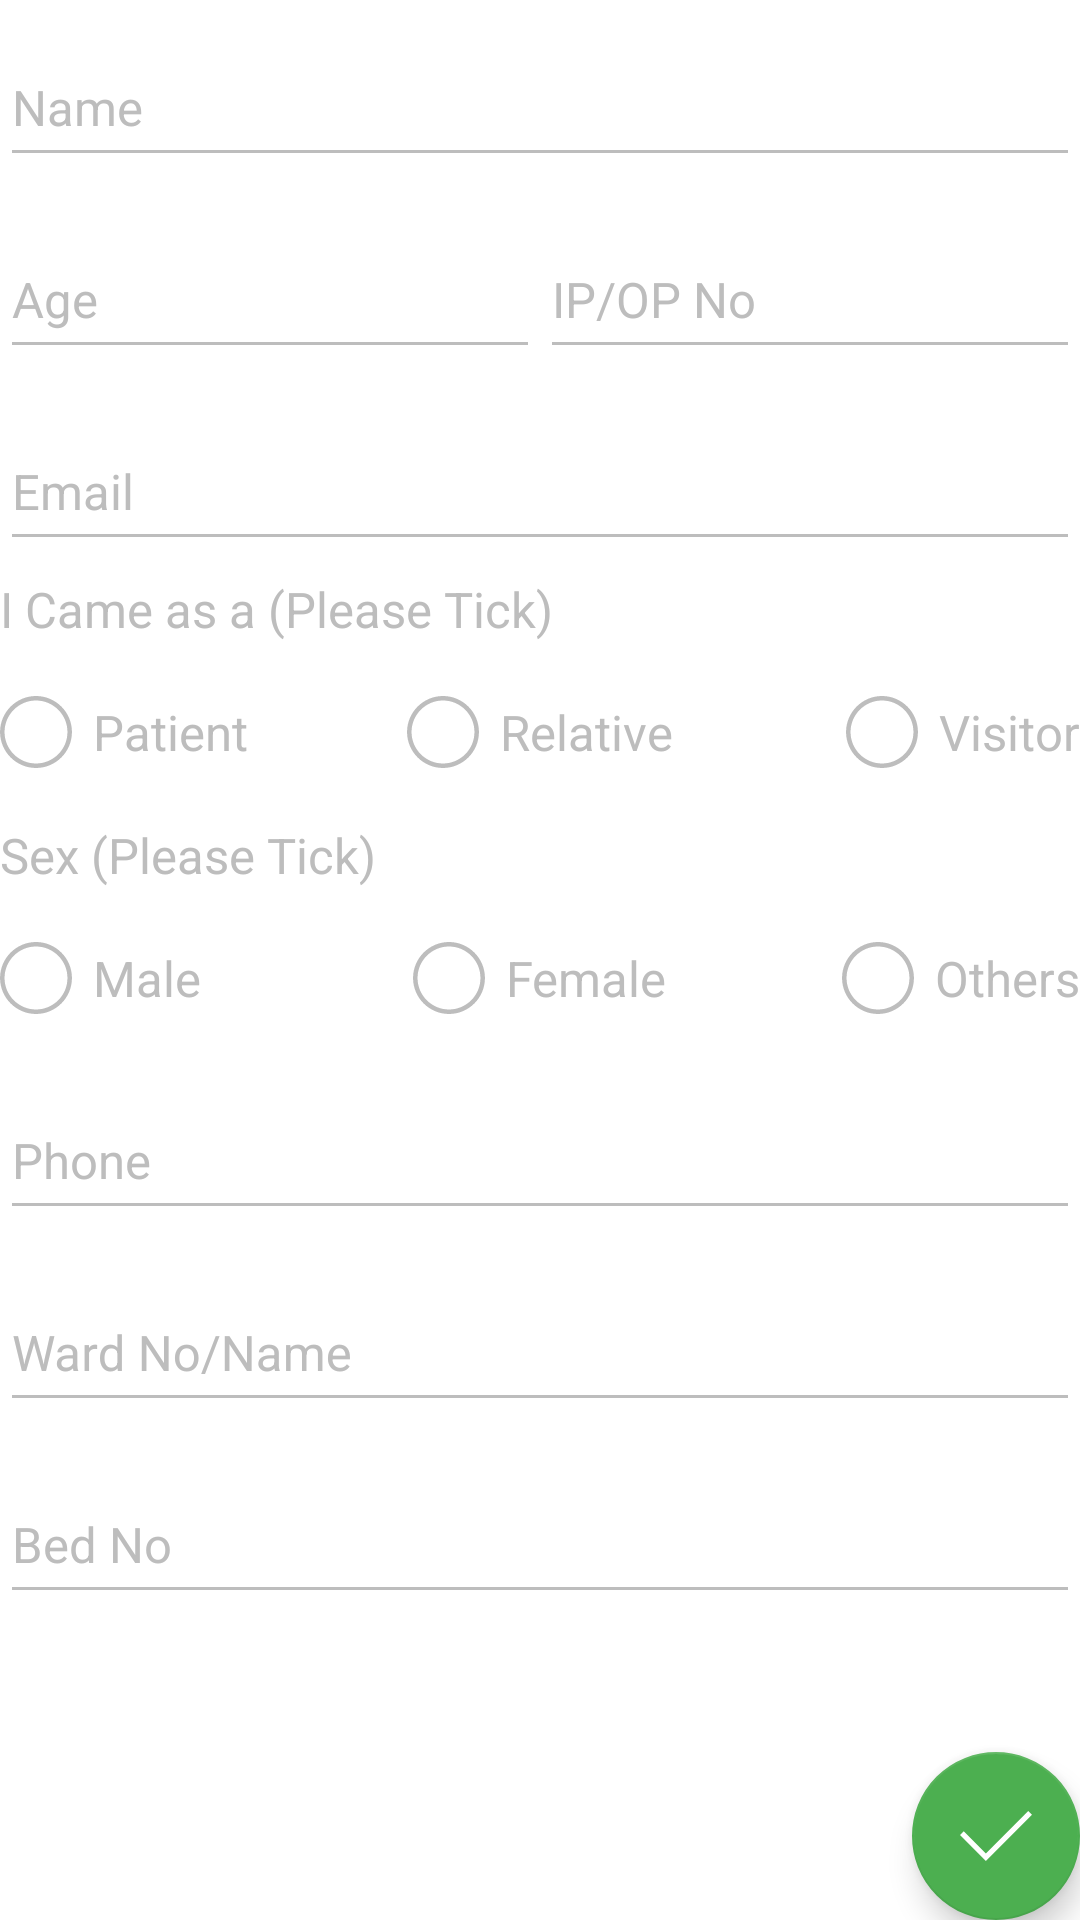

Icons on this 1080px x 1920px Android screen, each with its box as bbox=[x1, y1, x2, y2]:
check: bbox=[912, 1752, 1080, 1920]
